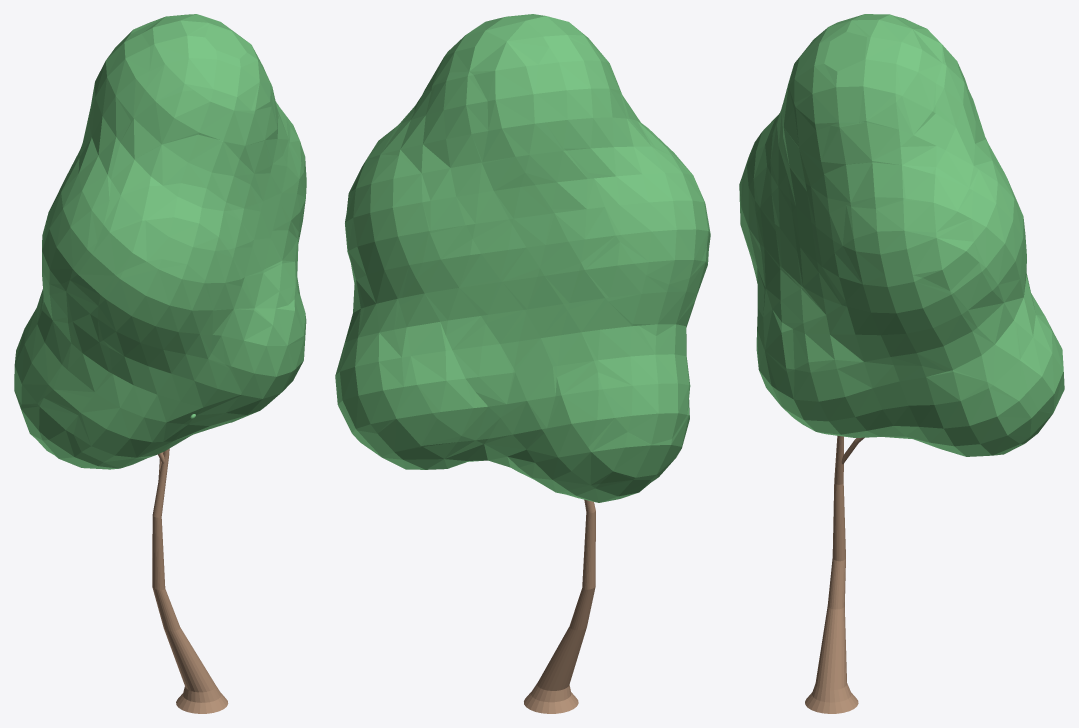
Rendered from Cartoon_Trees_Pack_Tree_7.glb.
3 views of the same model, side by side, from view 1: azimuth 30°, elevation 25°; view 2: azimuth 150°, elevation 25°; view 3: azimuth 270°, elevation 25° (orthographic). The views are drawn at different scales.
Visible parts, largest first — view 1: Canopy, Trunk; view 2: Canopy, Trunk; view 3: Canopy, Trunk.
Part boxes in pixels (x1,y1,x2,y2): Canopy: (14, 14, 306, 469); Trunk: (152, 448, 228, 713); Canopy: (335, 14, 710, 502); Trunk: (524, 499, 595, 713); Canopy: (739, 14, 1064, 456); Trunk: (805, 435, 864, 713).
Size of the model in its own units: 525 by 1159 by 500.
